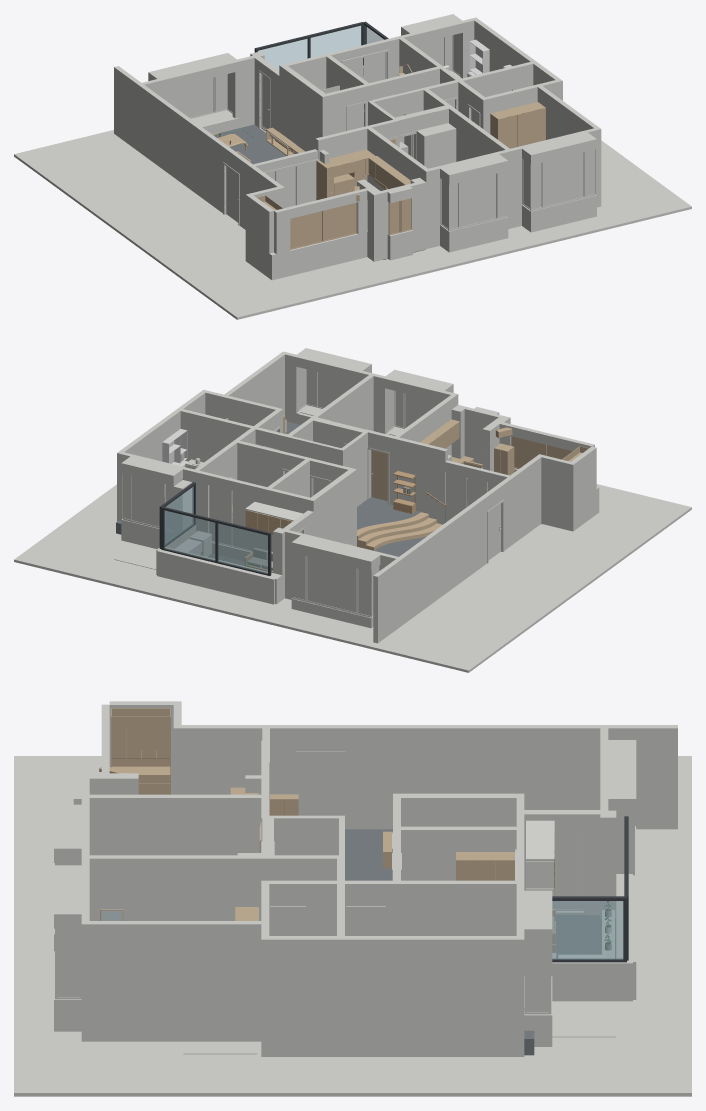
File: interaction_proxy.glb
The picture shows the model from 3 angles, top to bottom: view 1: azimuth 30°, elevation 25°; view 2: azimuth 150°, elevation 25°; view 3: azimuth 270°, elevation 25°; orthographic projection. The views are drawn at different scales.
Parts seen in each view (by area): view 1: SITE_GROUND.001, VIEW_WALL_W_wall_md_0006.001, VIEW_WALL_LIVING_FIX_GUEST_BATH_FULL_WALL.001, VIEW_WALL_W_wall_md_0042.001, VIEW_WALL_W_wall_md_0035.001, V4_W-MB-S_FRONT_GLASS_1.001, VIEW_WALL_W_wall_md_0034.001, V4_W-SMB-S_FRONT_GLASS_1.001, VIEW_WALL_W_wall_md_0007.001, VIEW_WALL_W_wall_md_0021.001, VIEW_WALL_W_wall_md_0030.001, VIEW_WALL_W_wall_md_0060.001 (+46 smaller); view 2: SITE_GROUND.001, VIEW_WALL_W_wall_md_0006.001, VIEW_WALL_W_wall_md_0062.001, VIEW_WALL_W_wall_md_0005.001, VIEW_WALL_W_wall_md_0044.001, VIEW_WALL_W_wall_md_0043.001, VIEW_WALL_LIVING_FIX_GUEST_BATH_FULL_WALL.001, LIVING_FIX_BAY_FRONT_GLASS_1.001, VIEW_WALL_W_wall_md_0049.001, VIEW_WALL_W_wall_md_0055.001, NORTH_BALCONY_GLASS_NORTH_B.001, VIEW_WALL_W_wall_md_0007.001 (+55 smaller); view 3: SITE_GROUND.001, VIEW_WALL_W_wall_md_0030.001, VIEW_WALL_W_wall_md_0033.001, VIEW_WALL_W_wall_md_0006.001, VIEW_WALL_W_wall_md_0021.001, VIEW_WALL_W_wall_md_0015.001, VIEW_WALL_W_wall_md_0032.001, VIEW_WALL_W_wall_md_0005.001, VIEW_WALL_W_wall_md_0025.001, VIEW_WALL_W_wall_md_0007.001, VIEW_WALL_W_wall_md_0019.001, NORTH_BALCONY_GLASS_EAST.001 (+38 smaller).
Boxes of the visible parts, x1=… form: SITE_GROUND.001: x1=14, y1=128, x2=691, y2=319; VIEW_WALL_W_wall_md_0006.001: x1=139, y1=85, x2=227, y2=212; VIEW_WALL_LIVING_FIX_GUEST_BATH_FULL_WALL.001: x1=282, y1=66, x2=325, y2=153; VIEW_WALL_W_wall_md_0042.001: x1=276, y1=232, x2=367, y2=278; VIEW_WALL_W_wall_md_0035.001: x1=533, y1=139, x2=594, y2=231; V4_W-MB-S_FRONT_GLASS_1.001: x1=543, y1=152, x2=583, y2=206; VIEW_WALL_W_wall_md_0034.001: x1=451, y1=161, x2=505, y2=251; V4_W-SMB-S_FRONT_GLASS_1.001: x1=460, y1=174, x2=496, y2=226; VIEW_WALL_W_wall_md_0007.001: x1=114, y1=66, x2=141, y2=150; VIEW_WALL_W_wall_md_0021.001: x1=449, y1=107, x2=509, y2=161; VIEW_WALL_W_wall_md_0030.001: x1=537, y1=86, x2=598, y2=139; VIEW_WALL_W_wall_md_0060.001: x1=232, y1=55, x2=254, y2=128; SITE_GROUND.001: x1=14, y1=484, x2=691, y2=672; VIEW_WALL_W_wall_md_0006.001: x1=399, y1=495, x2=487, y2=624; VIEW_WALL_W_wall_md_0062.001: x1=157, y1=547, x2=277, y2=604; VIEW_WALL_W_wall_md_0005.001: x1=499, y1=456, x2=541, y2=550; VIEW_WALL_W_wall_md_0044.001: x1=396, y1=437, x2=441, y2=523; VIEW_WALL_W_wall_md_0043.001: x1=541, y1=455, x2=575, y2=531; VIEW_WALL_LIVING_FIX_GUEST_BATH_FULL_WALL.001: x1=311, y1=470, x2=354, y2=545; LIVING_FIX_BAY_FRONT_GLASS_1.001: x1=307, y1=556, x2=356, y2=612; VIEW_WALL_W_wall_md_0049.001: x1=180, y1=409, x2=253, y2=462; VIEW_WALL_W_wall_md_0055.001: x1=196, y1=470, x2=266, y2=561; NORTH_BALCONY_GLASS_NORTH_B.001: x1=164, y1=510, x2=215, y2=560; VIEW_WALL_W_wall_md_0007.001: x1=373, y1=559, x2=400, y2=643; SITE_GROUND.001: x1=14, y1=756, x2=691, y2=1096; VIEW_WALL_W_wall_md_0030.001: x1=89, y1=921, x2=261, y2=1041; VIEW_WALL_W_wall_md_0033.001: x1=345, y1=936, x2=516, y2=1056; VIEW_WALL_W_wall_md_0006.001: x1=345, y1=725, x2=600, y2=829; VIEW_WALL_W_wall_md_0021.001: x1=89, y1=855, x2=261, y2=920; VIEW_WALL_W_wall_md_0015.001: x1=89, y1=794, x2=261, y2=855; VIEW_WALL_W_wall_md_0032.001: x1=261, y1=936, x2=336, y2=1056; VIEW_WALL_W_wall_md_0005.001: x1=181, y1=725, x2=296, y2=794; VIEW_WALL_W_wall_md_0025.001: x1=401, y1=880, x2=516, y2=935; VIEW_WALL_W_wall_md_0007.001: x1=608, y1=725, x2=677, y2=829; VIEW_WALL_W_wall_md_0019.001: x1=401, y1=826, x2=516, y2=880; NORTH_BALCONY_GLASS_EAST.001: x1=552, y1=901, x2=623, y2=959.
Bounding box in the file's own units: 20 × 3.37 × 17.
